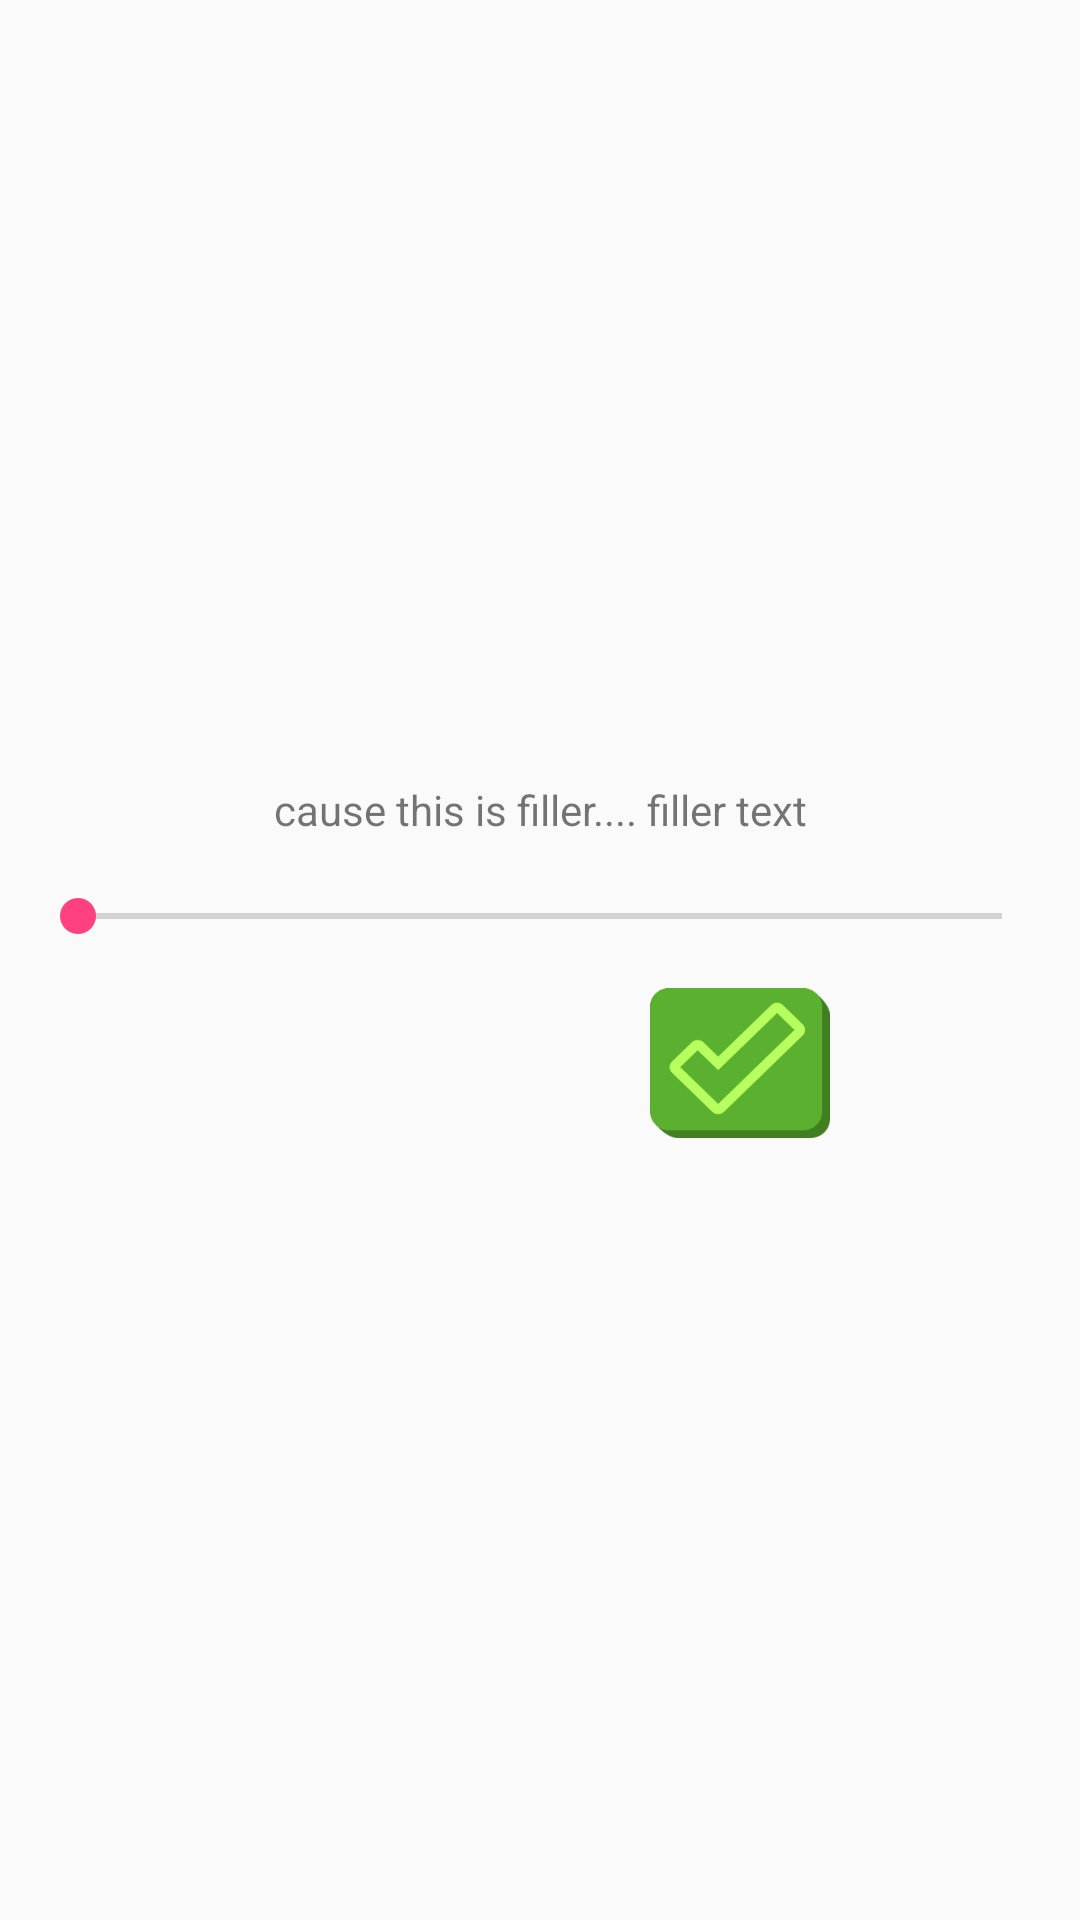

Icon click points for this 1080 × 1920 phone screenshot, format [x,y]:
check: [740,1063]
